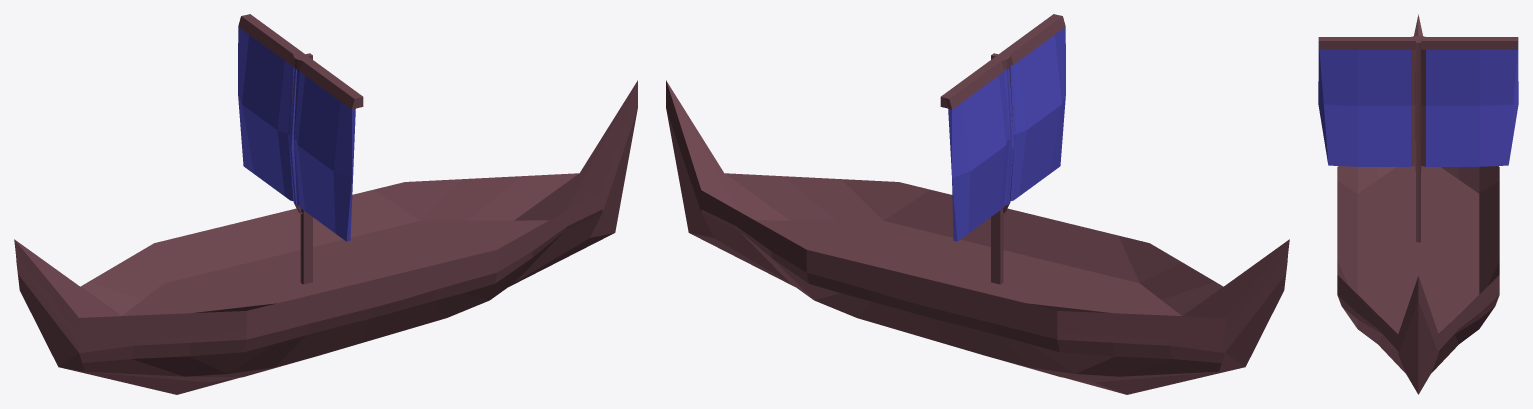
File: PlayerShip.fbx
3 renders of one model, left to right at view 1: azimuth 30°, elevation 25°; view 2: azimuth 150°, elevation 25°; view 3: azimuth 270°, elevation 25°, orthographic. The views are drawn at different scales.
Visible parts, largest first — view 1: Cube; view 2: Cube; view 3: Cube.
Part boxes in pixels (x1,y1,x2,y2): Cube: (14, 14, 637, 394); Cube: (666, 14, 1289, 394); Cube: (1318, 14, 1518, 394).
Bounding box in the file's own units: 779 × 367 × 246.
